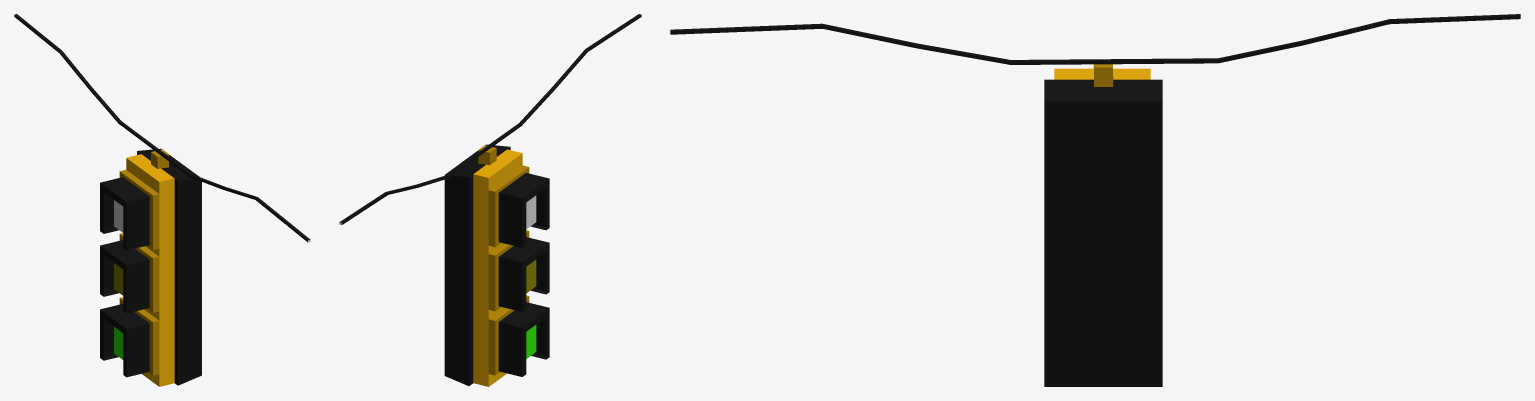
File: greenLight.fbx
The picture shows the model from 3 angles, left to right: view 1: azimuth 30°, elevation 25°; view 2: azimuth 150°, elevation 25°; view 3: azimuth 270°, elevation 25°; orthographic projection. The views are drawn at different scales.
Parts seen in each view (by area): view 1: Cube; view 2: Cube; view 3: Cube.
Boxes of the visible parts, <box> form: Cube: <box>14,14,310,386</box>; Cube: <box>339,14,641,386</box>; Cube: <box>670,14,1520,386</box>.
Bounding box in the file's own units: 81.27 × 283 × 601.
